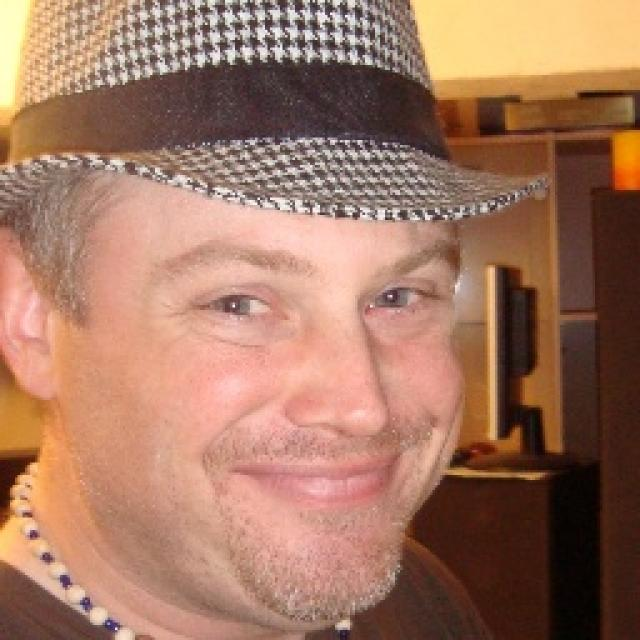earlobe: (0, 220, 62, 402)
